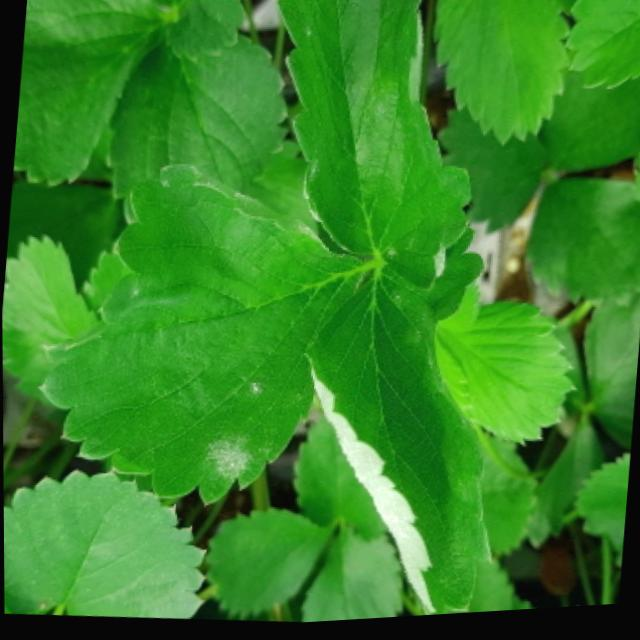Powdery Mildew Leaf: (37, 163, 376, 509), (303, 271, 491, 620), (278, 0, 472, 298)
